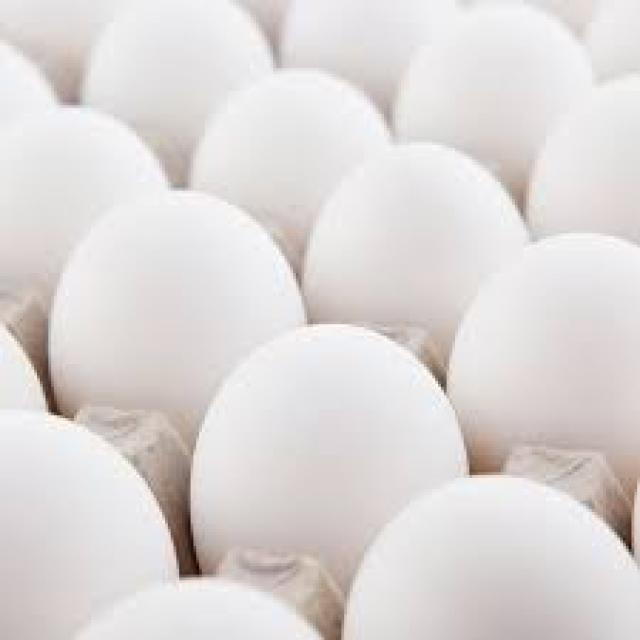White Egg: (189, 313, 485, 595), (52, 182, 309, 452), (347, 463, 640, 640), (310, 133, 536, 356), (441, 224, 640, 466), (0, 97, 162, 361), (190, 58, 391, 250)
